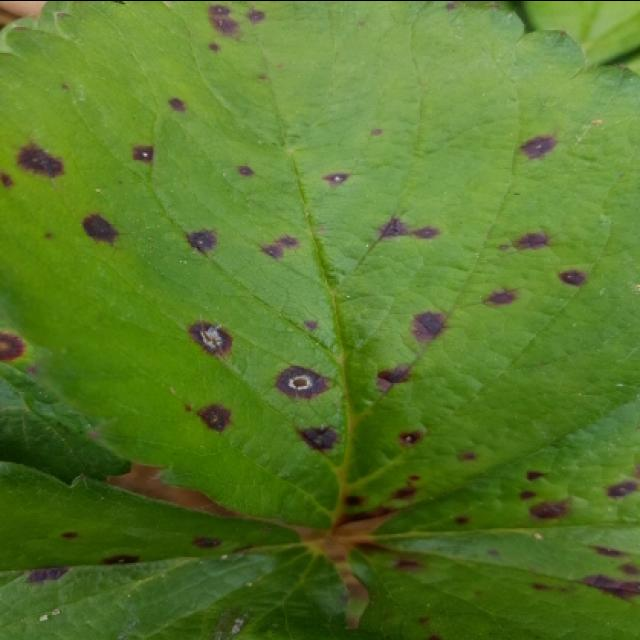Leaf Spot: (0, 0, 638, 528), (347, 388, 638, 638), (0, 458, 347, 638)
